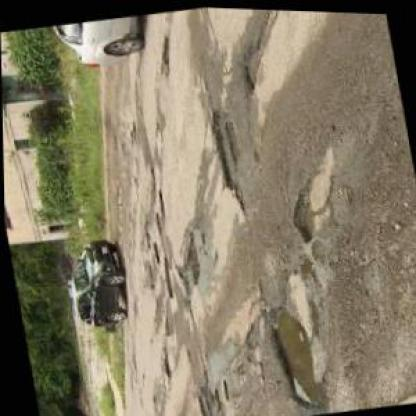pothole: (260, 296, 332, 414), (277, 151, 344, 246), (202, 101, 251, 212), (235, 40, 266, 92), (176, 228, 203, 286)
